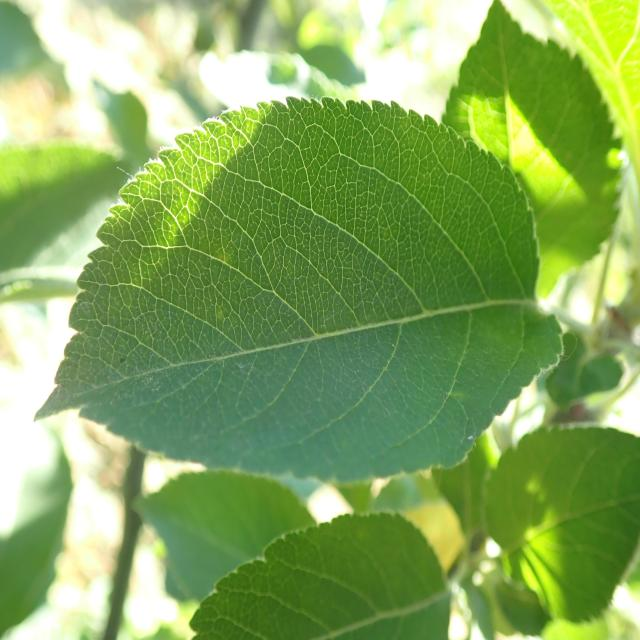healthy: (35, 94, 579, 484), (441, 0, 635, 300), (188, 511, 452, 640), (483, 422, 640, 624)
